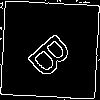B: (25, 25, 82, 81)
